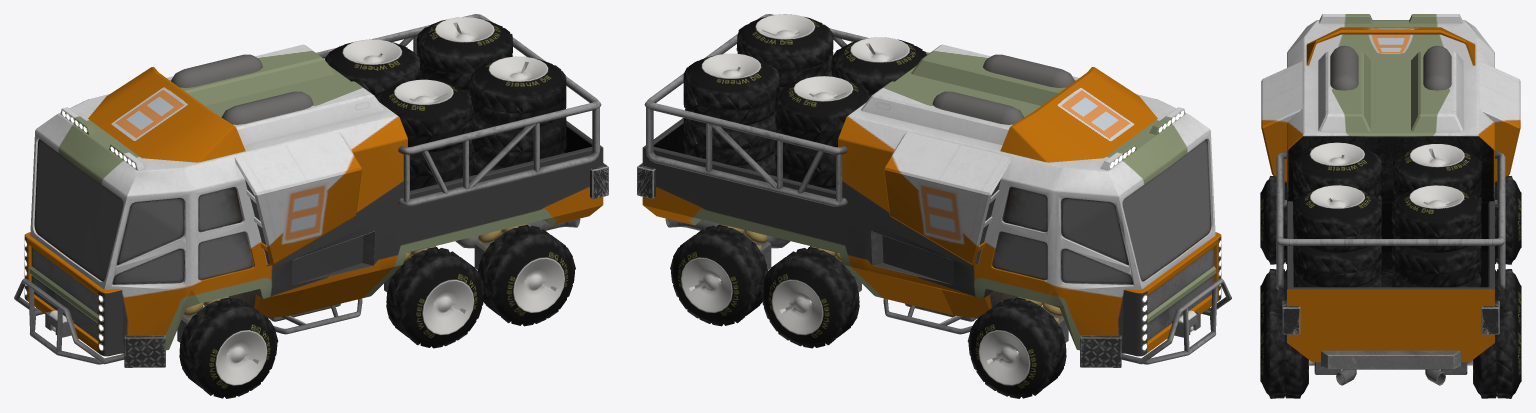
File: car-6UDtt.glb
The picture shows the model from 3 angles, left to right: view 1: azimuth 30°, elevation 25°; view 2: azimuth 150°, elevation 25°; view 3: azimuth 270°, elevation 25°; orthographic projection. The views are drawn at different scales.
Visible parts, largest first — view 1: polySurface520; view 2: polySurface520; view 3: polySurface520.
Boxes of the visible parts, box(x1,y1,x2,y2) form: polySurface520: box(14, 14, 608, 398); polySurface520: box(637, 14, 1231, 398); polySurface520: box(1260, 14, 1521, 398).
Size of the model in its own units: 1064 by 499 by 503.
Materials: 1 (1 with a texture image).
